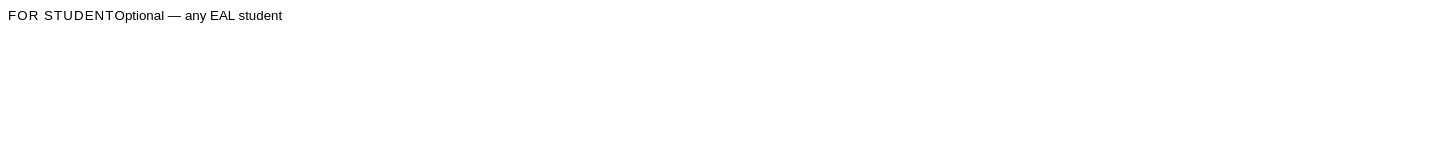
Test: LanguageToolsStudentPicker › lists only EAL-flagged students
Click the button "For student Optional — any EAL student" at (61, 16), box [8,8,1432,23]
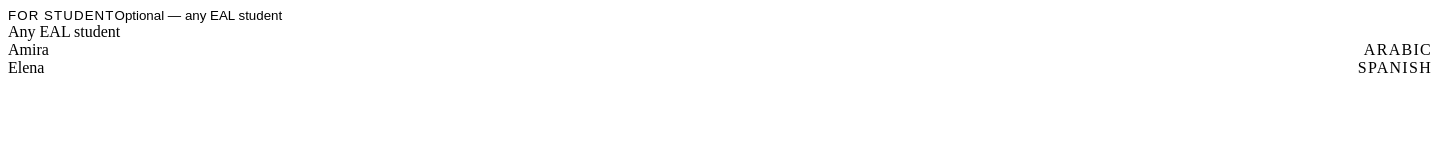
expect the option "Amira Arabic" is shown: met, box [8,41,1432,59]
expect the option "Elena Spanish" is shown: met, box [8,59,1432,77]
